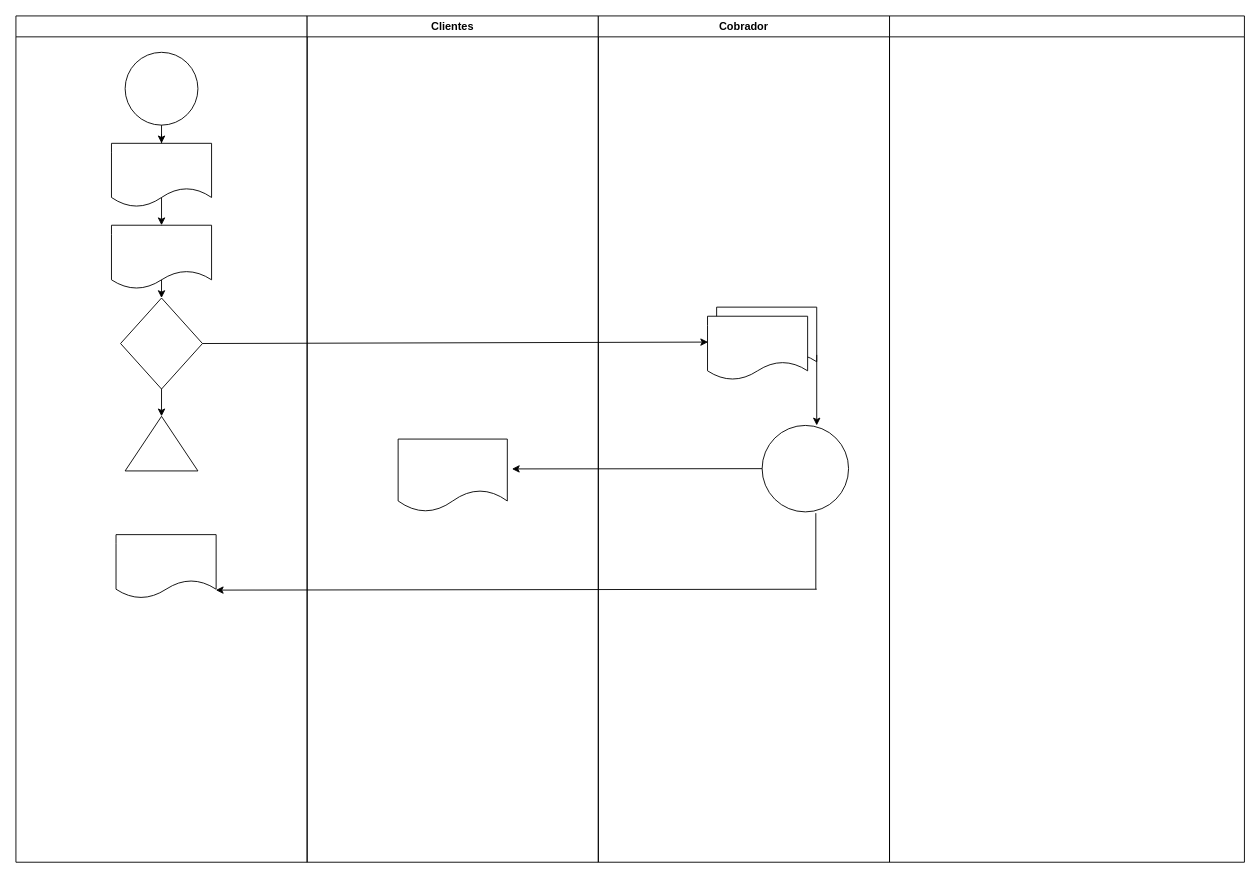
Image size: 1260x878. Some labels were removed from this diagram. The box of each missing label's shape, as (x1, y1, x2, y2) in pixels:
Contabilidad: (15, 15, 307, 862)
Tesorería: (889, 15, 1244, 862)
